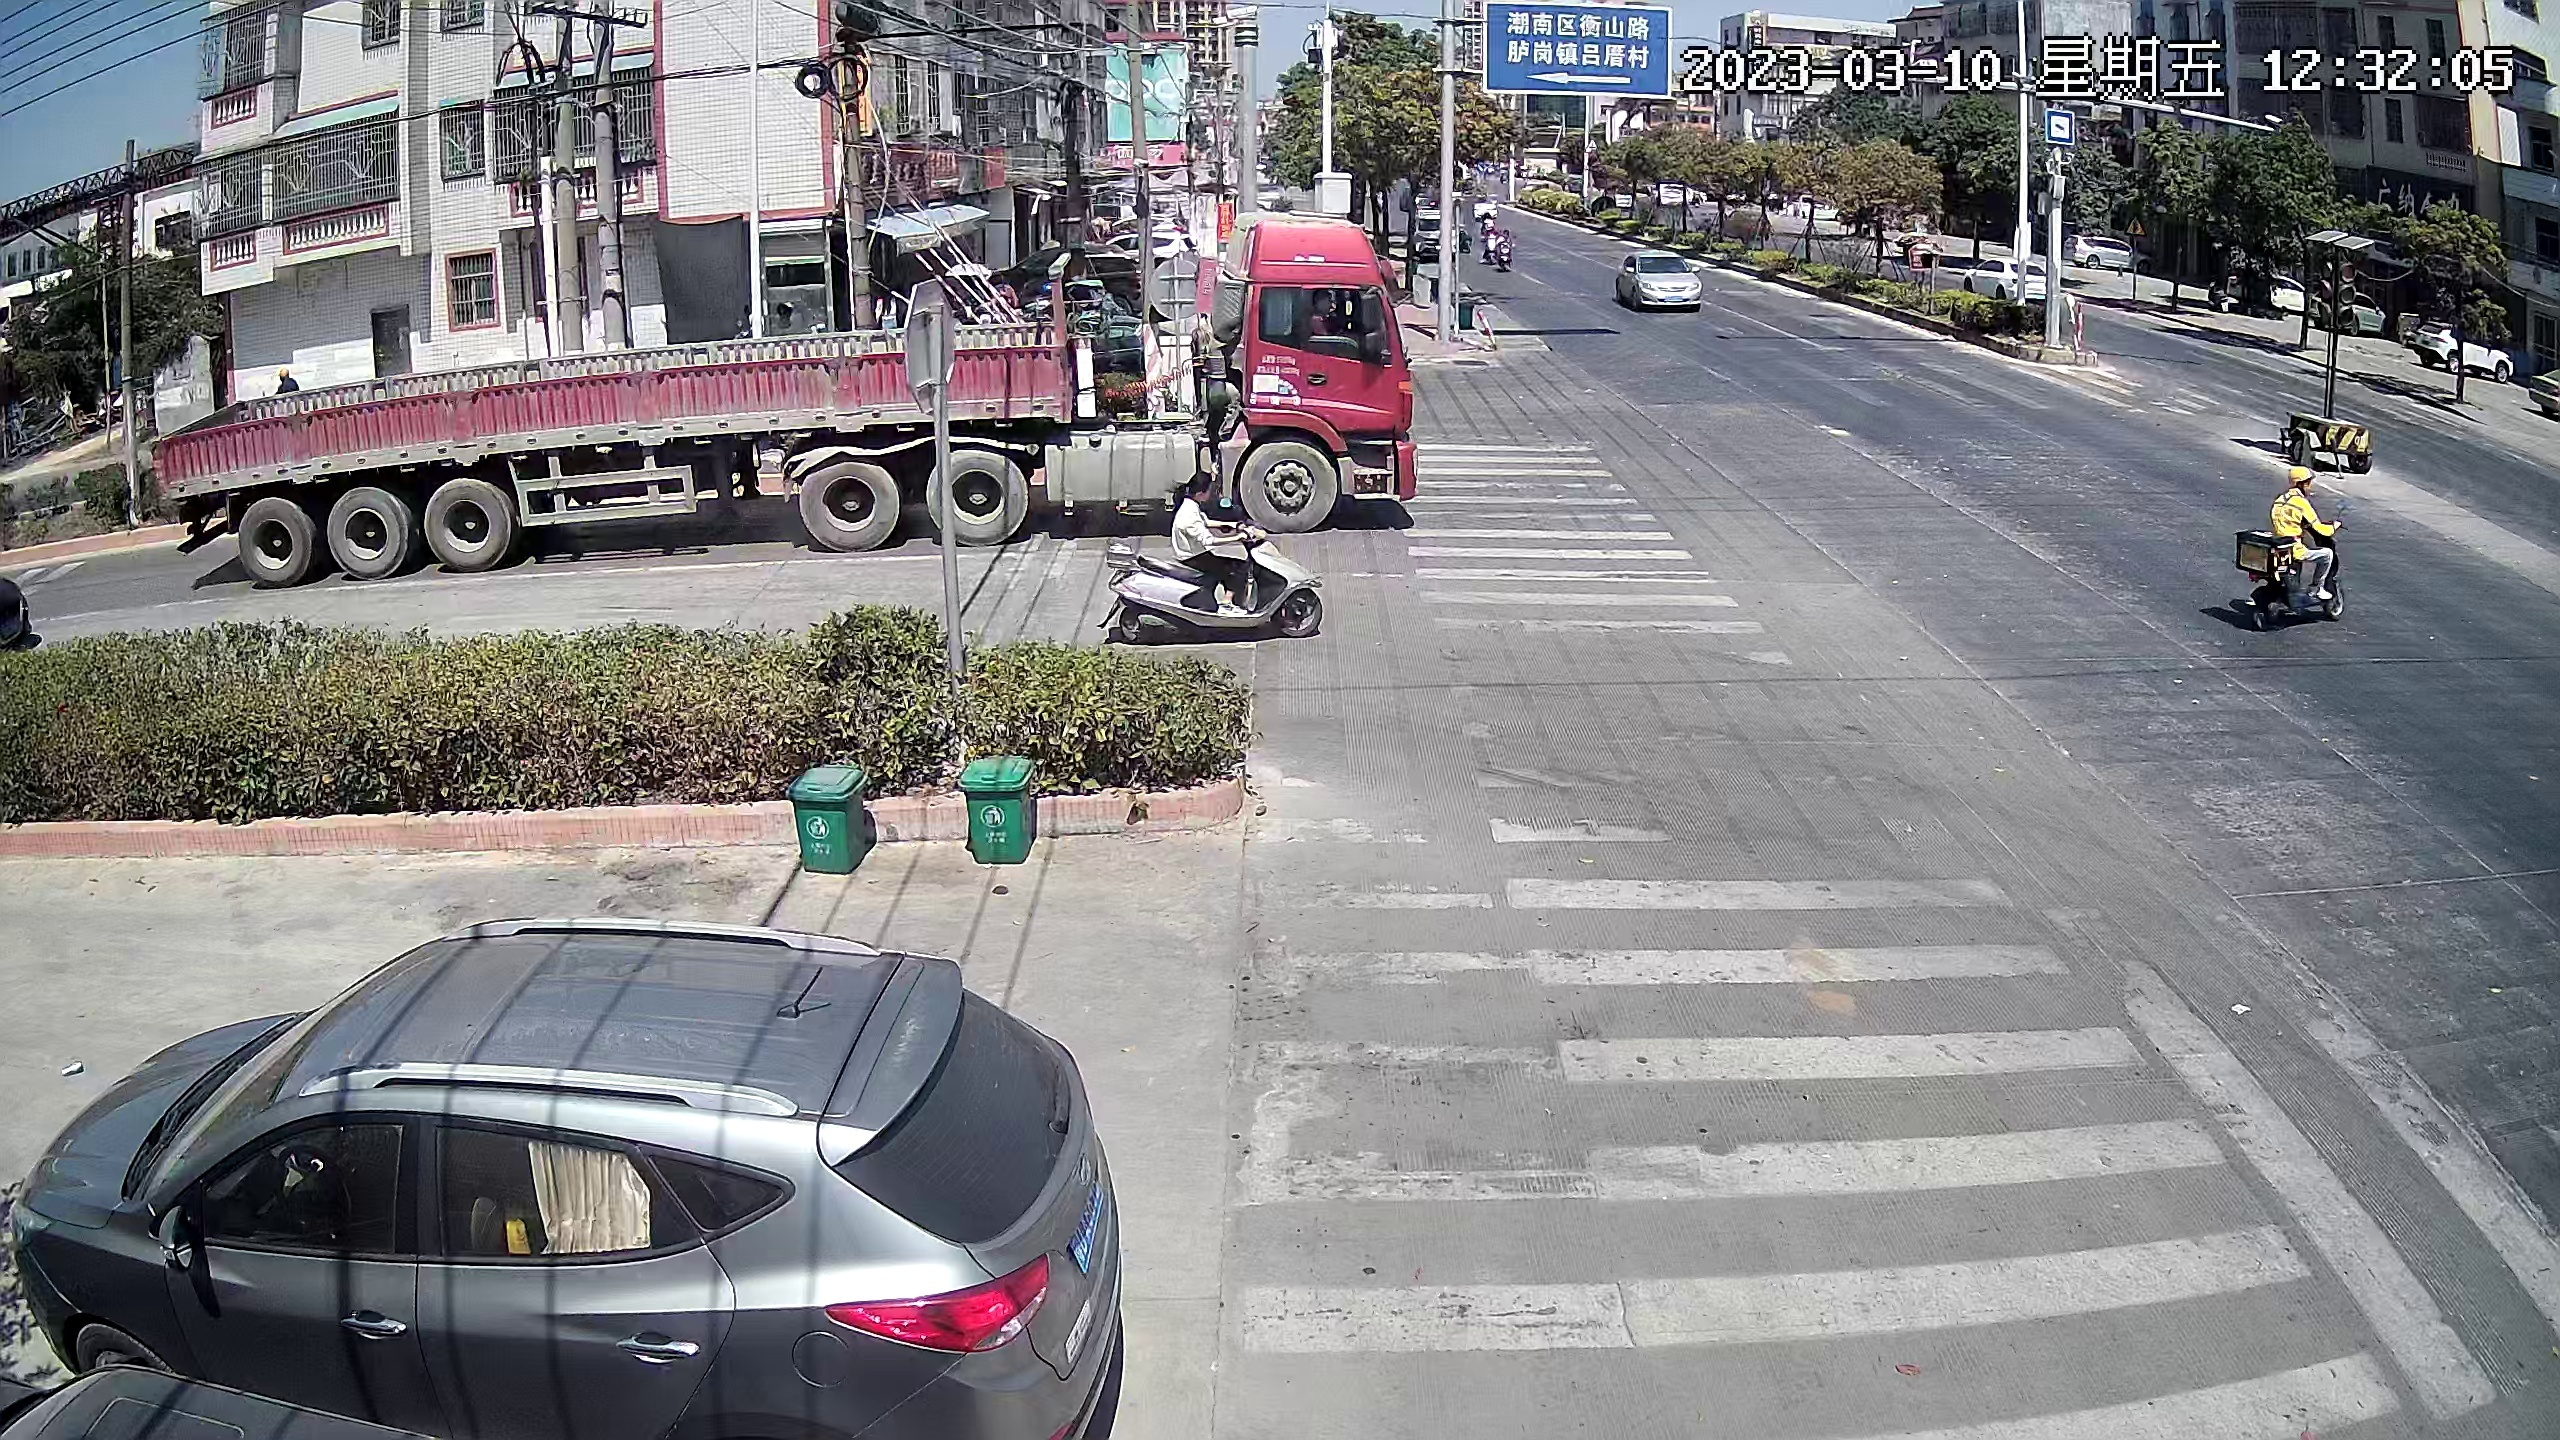motorcycle: (1113, 469, 1334, 663), (2239, 447, 2353, 632), (1485, 218, 1518, 275)
person: (1169, 464, 1259, 614), (2284, 464, 2330, 602)
sedan: (1617, 243, 1712, 318), (2428, 312, 2510, 389), (1963, 258, 2057, 305), (2073, 229, 2133, 279), (2333, 283, 2383, 335), (2258, 272, 2313, 319)
suv: (32, 907, 1134, 1437)
truck: (137, 218, 1428, 534)
